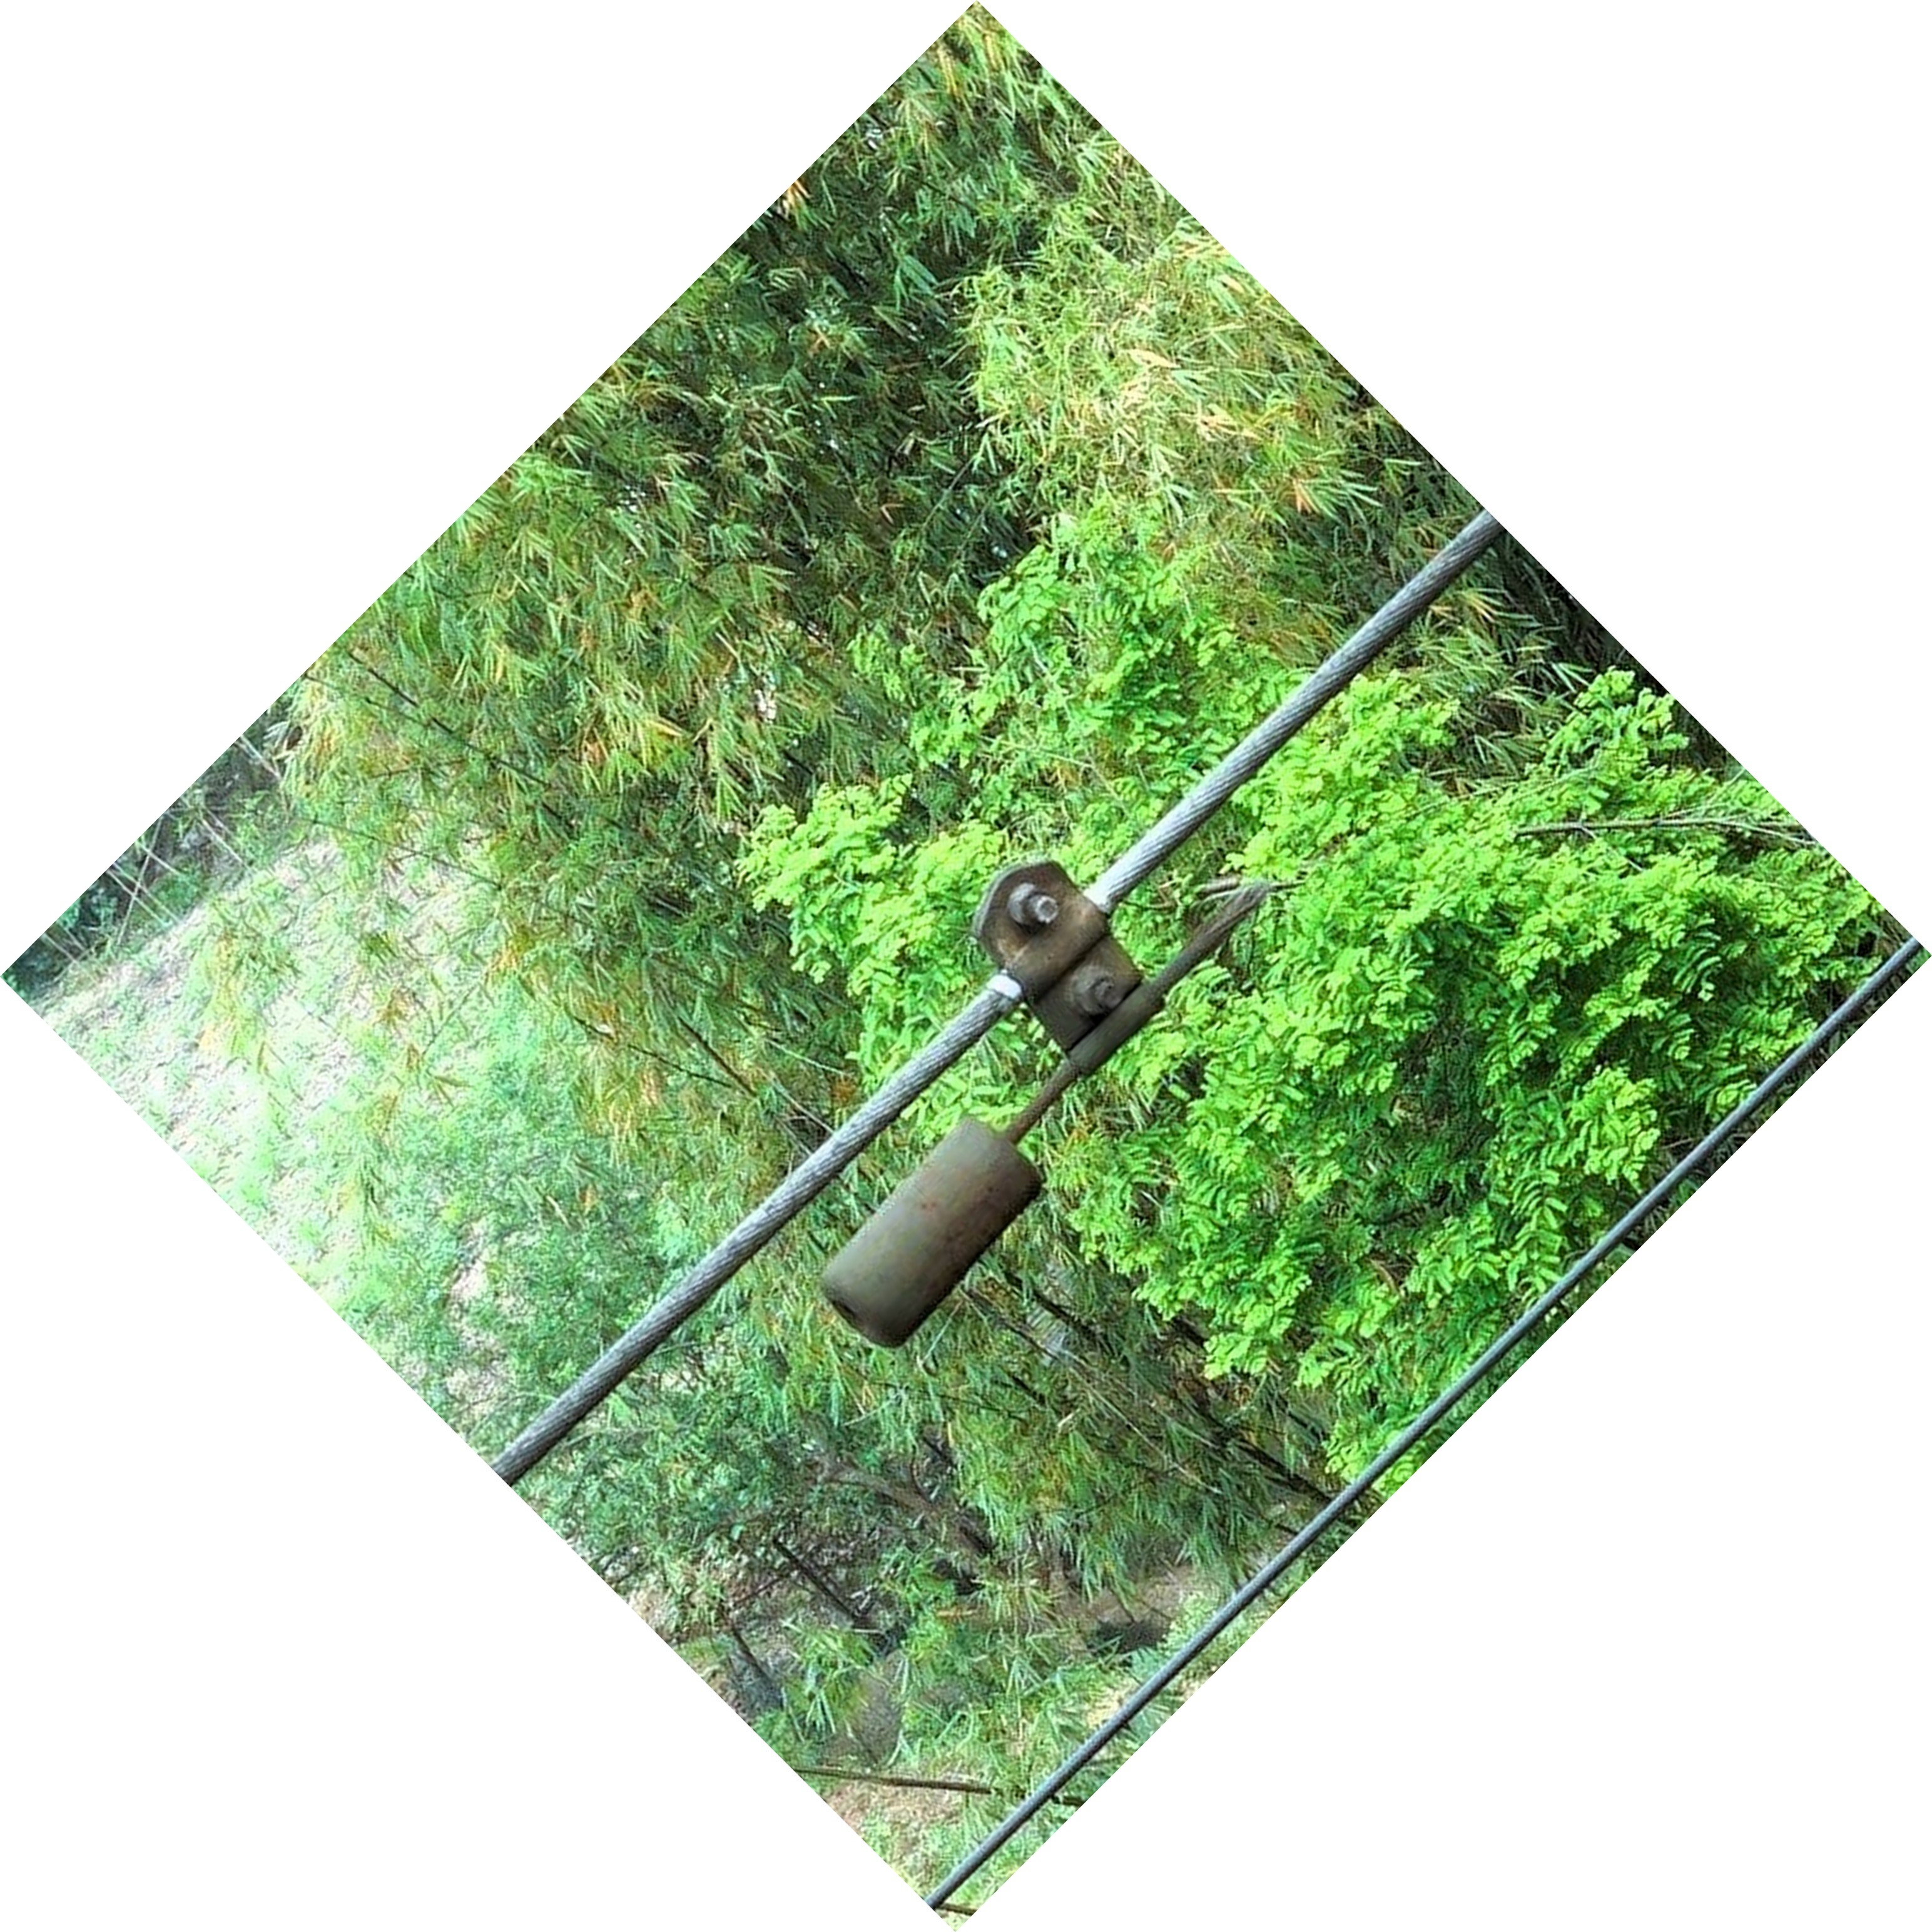Damage of shockproof hammer: (803, 817, 1304, 1364)
